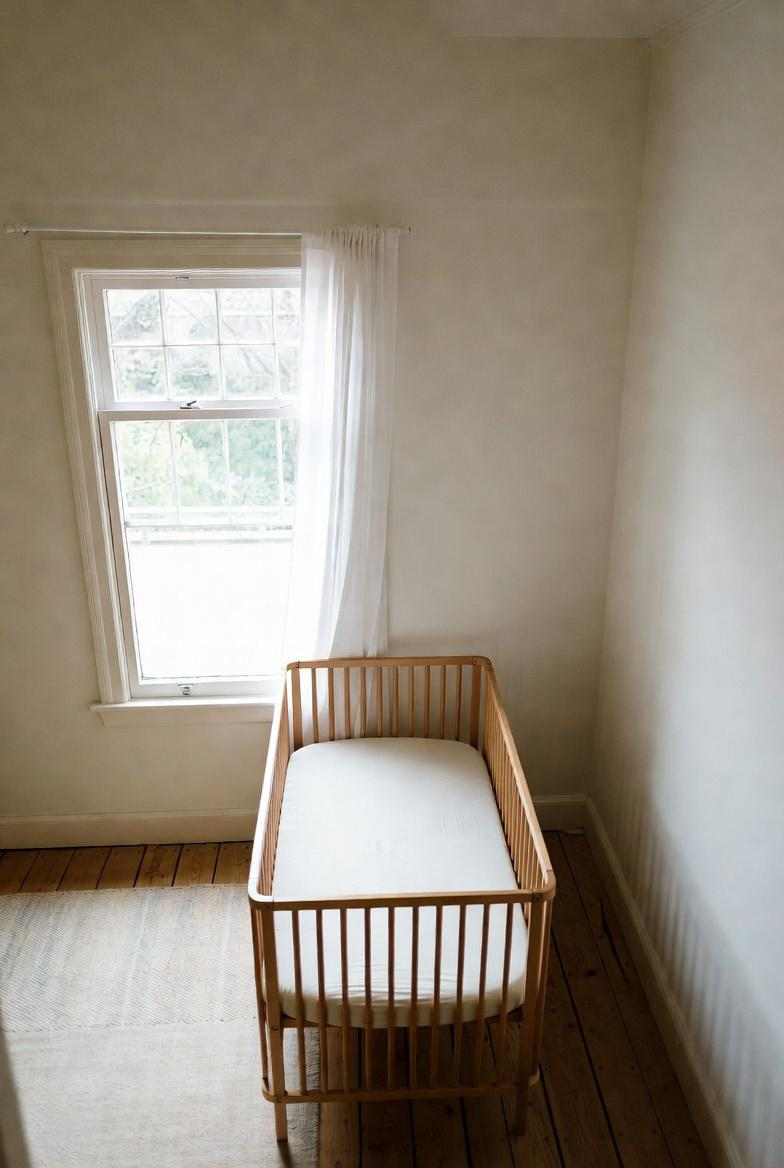crib: (249, 657, 555, 1139)
